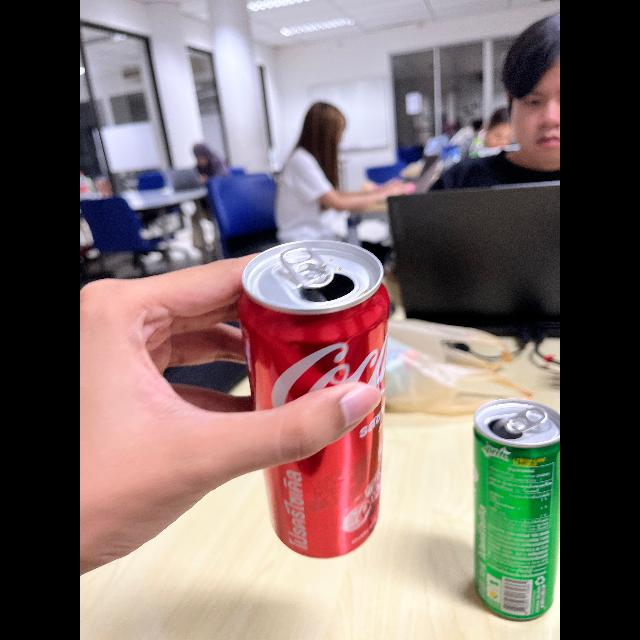can: (233, 225, 401, 571), (466, 387, 560, 626)
